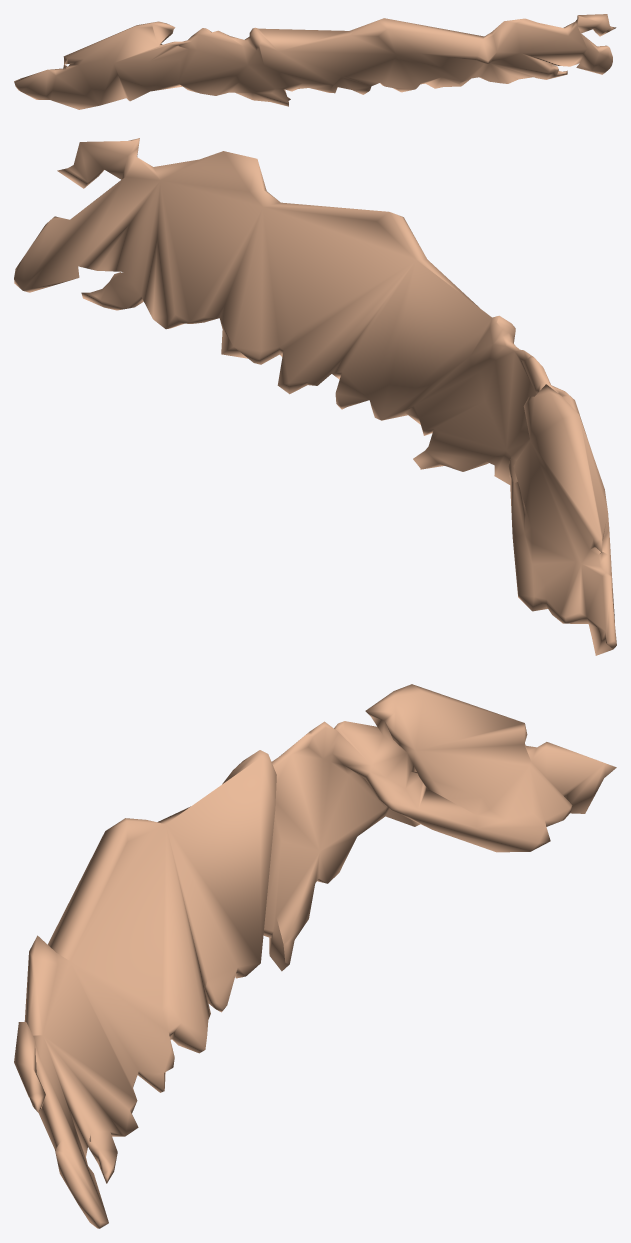
Rendered from hairs-of-eyebrow-r.glb.
The picture shows the model from 3 angles, top to bottom: view 1: azimuth 30°, elevation 25°; view 2: azimuth 150°, elevation 25°; view 3: azimuth 270°, elevation 25°; orthographic projection. The views are drawn at different scales.
Parts seen in each view (by area): view 1: Hairs of eyebrow.r; view 2: Hairs of eyebrow.r; view 3: Hairs of eyebrow.r.
Boxes of the visible parts, <box> form: Hairs of eyebrow.r: <box>14,14,616,109</box>; Hairs of eyebrow.r: <box>14,138,616,655</box>; Hairs of eyebrow.r: <box>14,684,616,1228</box>.
Bounding box in the file's own units: 0.0408 × 0.00919 × 0.023.
